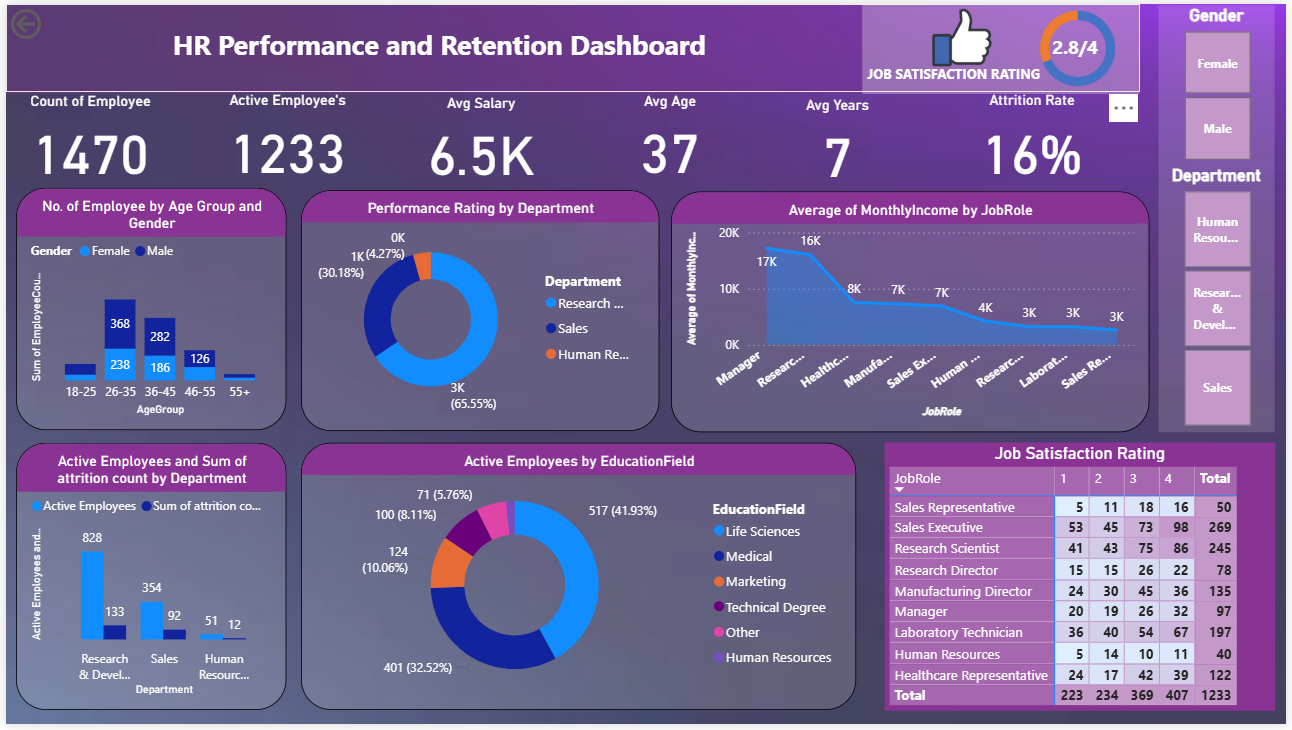

Layout of this report page (visuals, bound fields, positions):
{"tool":"powerbi","page":{"name":"Page 1","canvas":[1280,720],"ordinal":0},"visuals":[{"type":"image","box":[917.9,0,76.5,67.6],"z":0,"group":"g1"},{"type":"columnChart","title":"No. of Employee by Age Group and Gender","fields":{"Category":["HR_Analytics.AgeGroup"],"Y":["Sum(HR_Analytics.EmployeeCount)"],"Series":["HR_Analytics.Gender"]},"box":[10.2,183.1,270.7,242.3],"z":0},{"type":"textbox","box":[0,0,1133.4,89.2],"z":1000},{"type":"textbox","box":[856.7,56.1,195.1,34.4],"z":1000,"group":"g1"},{"type":"card","title":"Count of Employee","fields":{"Values":["CountNonNull(HR_Analytics.EmpID)"]},"box":[7,89.4,154.3,93.6],"z":1000,"group":"g3"},{"type":"image","box":[1010,0,123.7,89.2],"z":2000,"group":"g1"},{"type":"clusteredColumnChart","fields":{"Category":["HR_Analytics.Department"],"Y":["HR_Analytics.Active Employees","Sum(HR_Analytics.attrition count)"]},"box":[10.2,439.1,270.7,267.3],"z":2000},{"type":"card","title":"Avg Age","fields":{"Values":["Avg(HR_Analytics.Age)"]},"box":[586.4,89.3,153,93.1],"z":3000,"group":"g3"},{"type":"donutChart","fields":{"Y":["HR_Analytics.Active Employees"],"Category":["HR_Analytics.EducationField"]},"box":[294.6,439.1,555.1,267.3],"z":3000},{"type":"card","title":"Avg Salary","fields":{"Values":["Avg(HR_Analytics.MonthlyIncome)"]},"box":[397.8,90.5,153,93.1],"z":4000,"group":"g3"},{"type":"pivotTable","title":"Job Satisfaction Rating","fields":{"Rows":["HR_Analytics.JobRole"],"Columns":["HR_Analytics.JobSatisfaction"],"Values":["HR_Analytics.Active Employees"]},"box":[878.4,438.6,390.1,267.7],"z":4000},{"type":"donutChart","title":"Performance Rating by Department","fields":{"Y":["Sum(HR_Analytics.PerformanceRating)"],"Category":["HR_Analytics.Department"]},"box":[294.5,186.1,358.2,241],"z":5000},{"type":"actionButton","box":[0,0,100,40],"z":6000},{"type":"card","title":"Avg Years","fields":{"Values":["Avg(HR_Analytics.YearsAtCompany)"]},"box":[757.3,93.1,147.9,93.1],"z":6000,"group":"g3"},{"type":"areaChart","fields":{"Category":["HR_Analytics.JobRole"],"Y":["Avg(HR_Analytics.MonthlyIncome)"]},"box":[665.5,187.4,478.1,241],"z":7000},{"type":"textbox","box":[1041.6,25.5,88,38.2],"z":8000},{"type":"group","id":"g1","title":"Group 3","box":[856.7,0,277,90.5],"z":9000},{"type":"group","id":"g2","title":"Group 4","box":[1152.5,1.3,116,427.1],"z":10000},{"type":"card","title":"Active Employee''s","fields":{"Values":["HR_Analytics.Active Employees"]},"box":[200.1,88,160.6,94.3],"z":10000,"group":"g3"},{"type":"group","id":"g3","title":"Group 5","box":[7,88,1099.6,98.2],"z":11000},{"type":"card","title":"Attrition Rate","fields":{"Values":["HR_Analytics.Attrition Rate"]},"box":[944.7,88,161.9,96.9],"z":12000,"group":"g3"},{"type":"slicer","title":"Gender","fields":{"Values":["HR_Analytics.Gender"]},"box":[1152.5,1.3,116,161.4],"z":14000,"group":"g4"},{"type":"group","id":"g4","title":"Group 1","box":[1152.5,1.3,116,161.4],"z":16000,"group":"g5"},{"type":"slicer","title":"Department","fields":{"Values":["HR_Analytics.Department"]},"box":[1152.5,161.5,116,266.9],"z":19000,"group":"g5"},{"type":"group","id":"g5","title":"Group 2","box":[1152.5,1.3,116,427.1],"z":19001,"group":"g2"}]}

Visuals, with their boxes in screenshot pixels (x1, y1, x2, y2), scaled from the page's 1280x720 canvas onto the 1292x730 screenshot:
image: (927, 0, 1004, 69)
"No. of Employee by Age Group and Gender" columnChart: (10, 186, 284, 431)
textbox: (0, 0, 1144, 90)
textbox: (865, 57, 1062, 92)
"Count of Employee" card: (7, 91, 163, 186)
image: (1019, 0, 1144, 90)
clusteredColumnChart - HR_Analytics.Department x HR_Analytics.Active Employees: (10, 445, 284, 716)
"Avg Age" card: (592, 91, 746, 185)
donutChart - HR_Analytics.Active Employees x HR_Analytics.EducationField: (297, 445, 858, 716)
"Avg Salary" card: (402, 92, 556, 186)
"Job Satisfaction Rating" pivotTable: (887, 445, 1280, 716)
"Performance Rating by Department" donutChart: (297, 189, 659, 433)
actionButton: (0, 0, 101, 41)
"Avg Years" card: (764, 94, 914, 189)
areaChart - HR_Analytics.JobRole x Avg(HR_Analytics.MonthlyIncome): (672, 190, 1154, 434)
textbox: (1051, 26, 1140, 65)
"Group 3" group: (865, 0, 1144, 92)
"Group 4" group: (1163, 1, 1280, 434)
"Active Employee''s" card: (202, 89, 364, 185)
"Group 5" group: (7, 89, 1117, 189)
"Attrition Rate" card: (954, 89, 1117, 187)
"Gender" slicer: (1163, 1, 1280, 165)
"Group 1" group: (1163, 1, 1280, 165)
"Department" slicer: (1163, 164, 1280, 434)
"Group 2" group: (1163, 1, 1280, 434)
